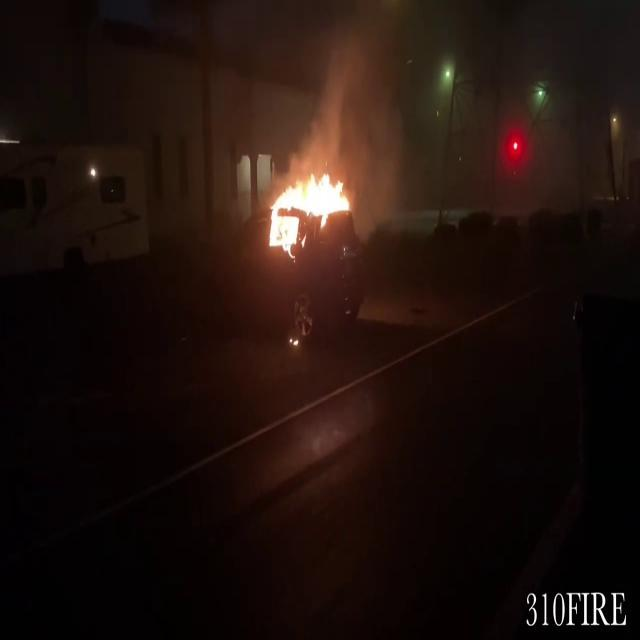Fire: (262, 158, 354, 254)
Smoke: (312, 2, 434, 210)
